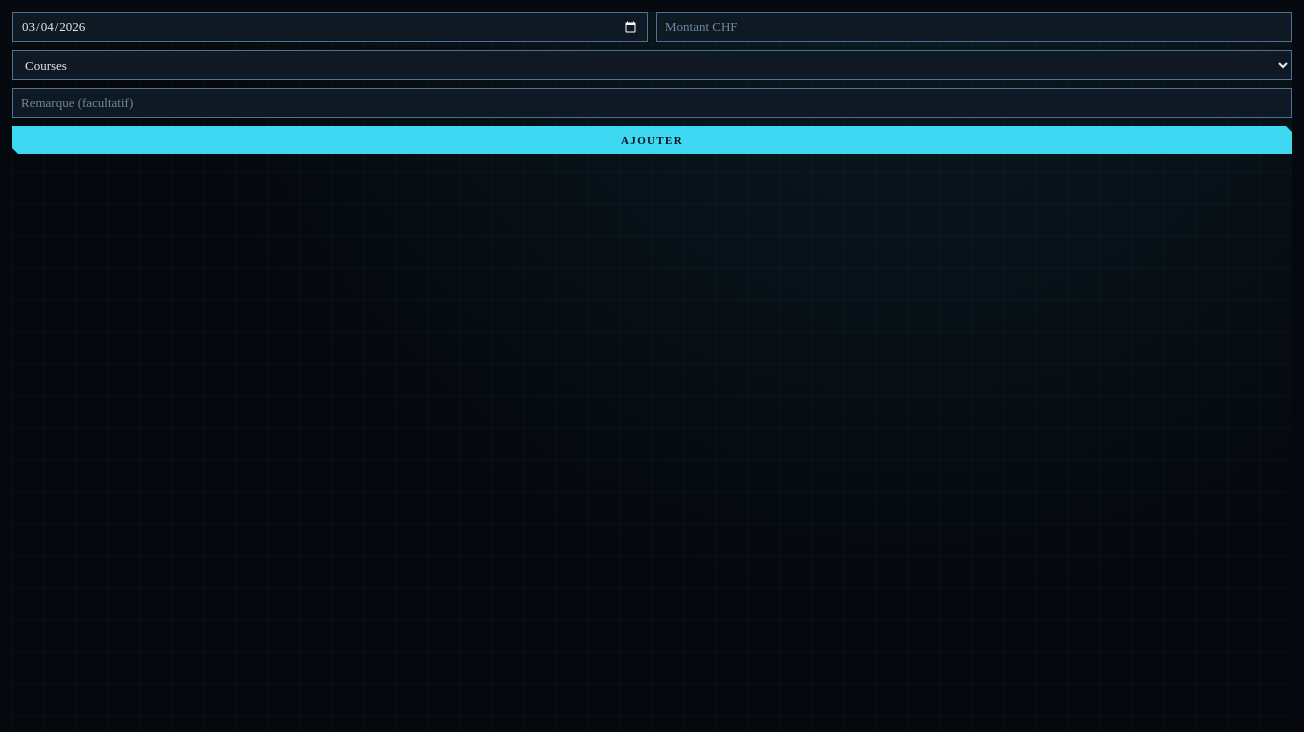
QuickAdd › succès: POST /api/cash avec le corps JSON, router.refresh appelé, statut 'Ajouté.'
In the field named "Montant en CHF": (974, 27) [656, 12, 1292, 42], type "12,5"
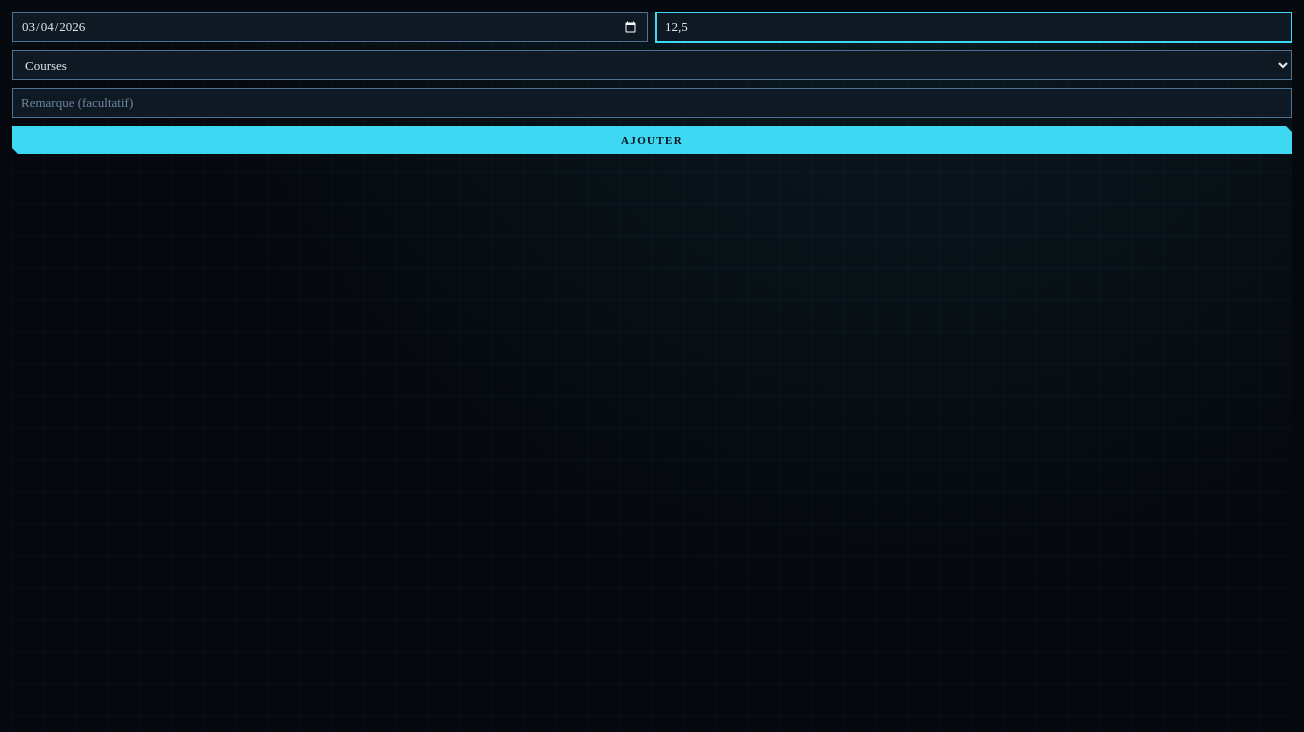
Click the button "Ajouter": (652, 140) [12, 126, 1292, 154]
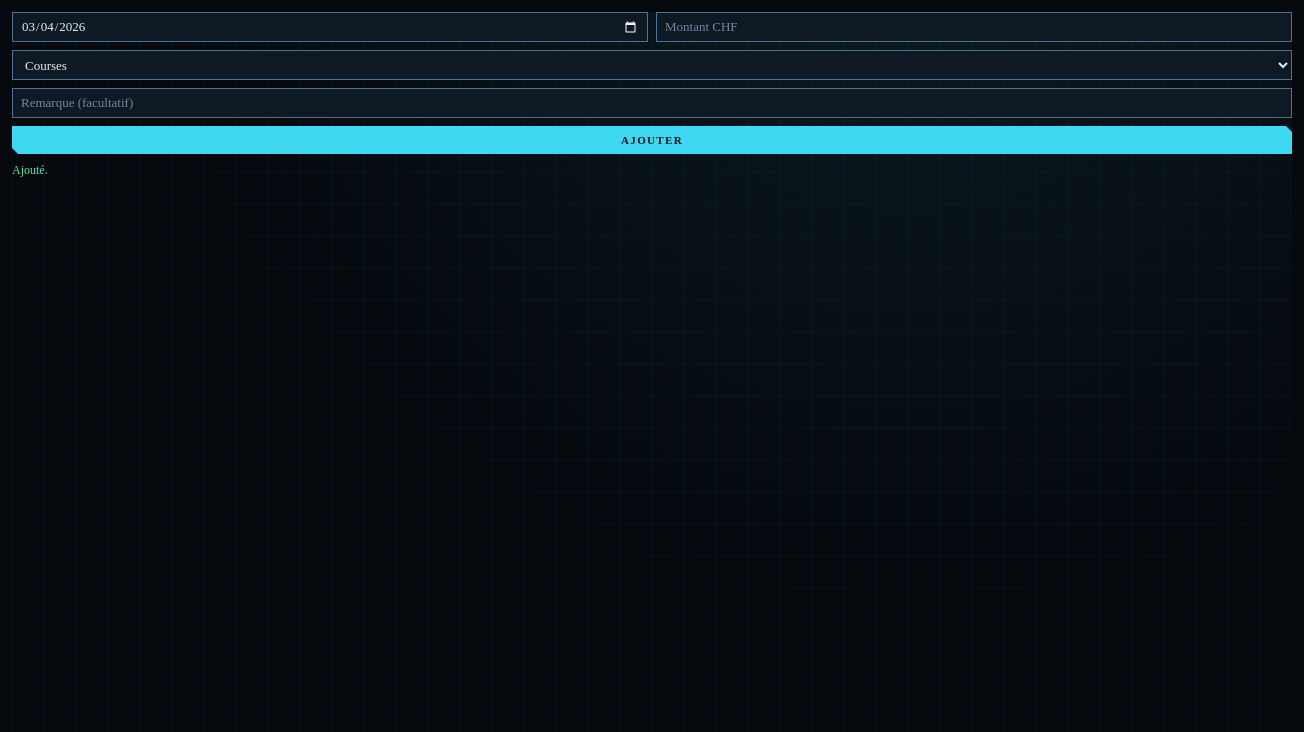
Expected: the message reads "Ajouté.", [12, 163, 48, 177]
